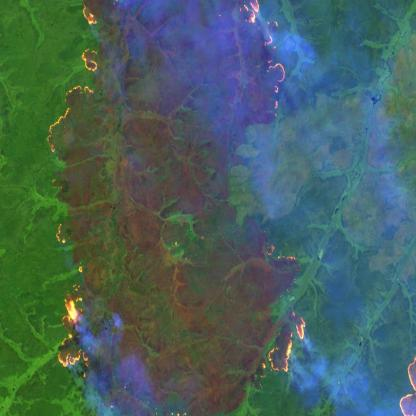fire: (44, 0, 106, 157), (234, 0, 288, 125), (53, 281, 96, 387), (256, 303, 311, 382), (392, 347, 416, 416)
